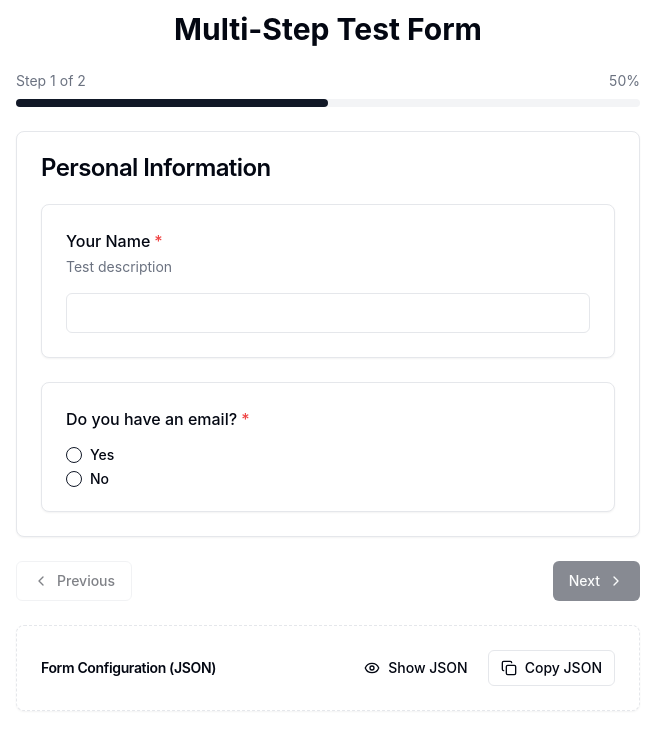
Test: FormPreview Integration Tests › Conditional Logic › should hide conditional questions when condition is not met
// Fill required name field
Type "John Doe" into the field at (328, 313), box [66, 293, 590, 333]
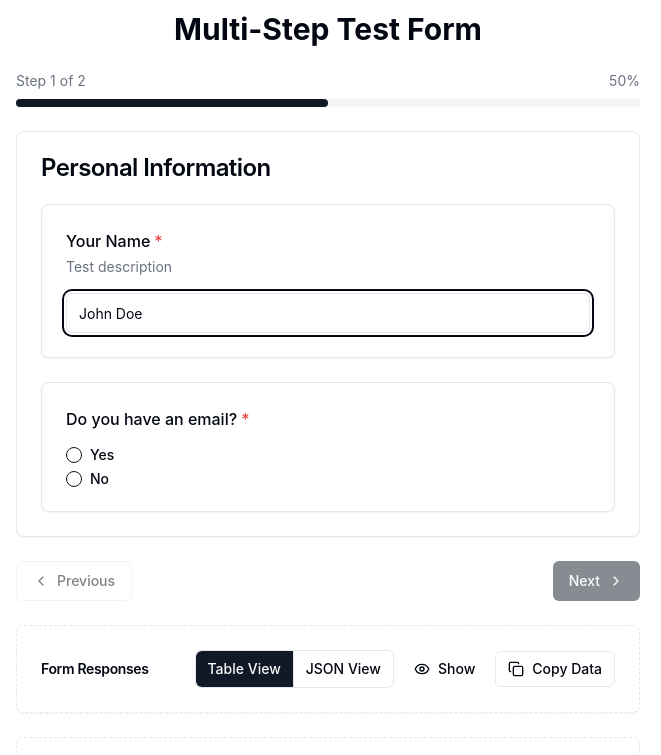
// Select "No" for has-email question
Click the radio button named "No" next to "No" at (74, 479), box [66, 471, 82, 487]
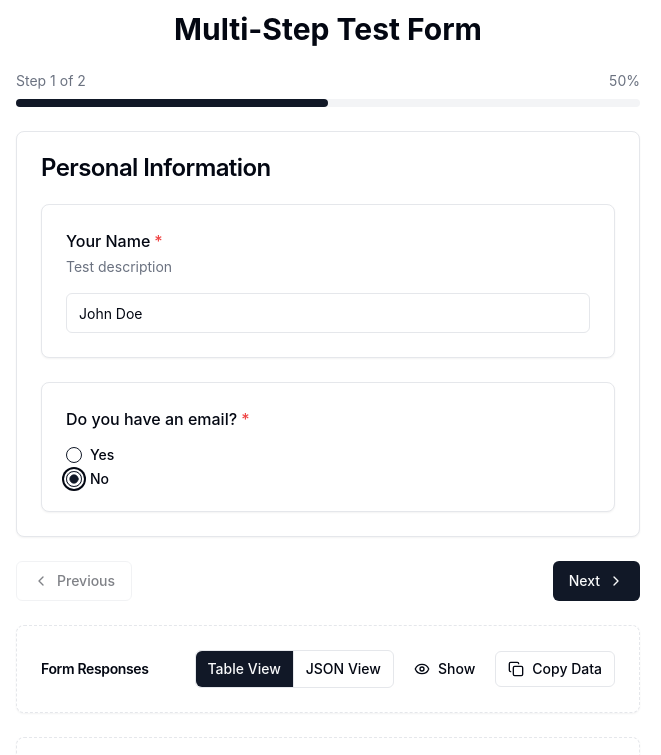
// Move to next step
Click the button "Next" at (596, 581), box [553, 561, 640, 601]
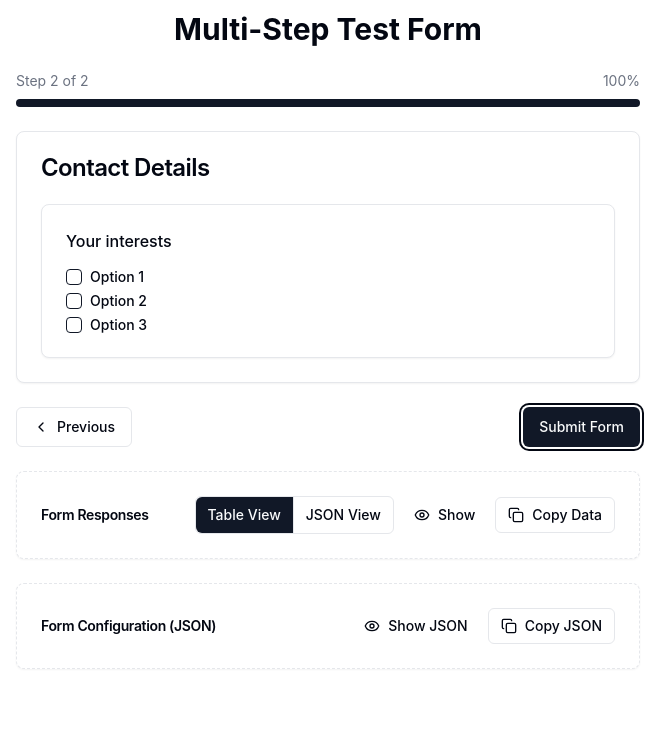
Expected: the text "Your interests" is shown, [66, 231, 172, 251]
